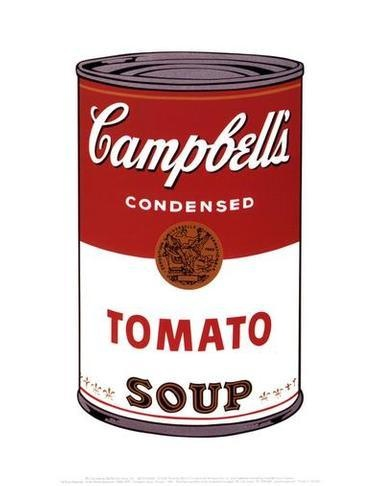grozi_88: (75, 51, 305, 438)
